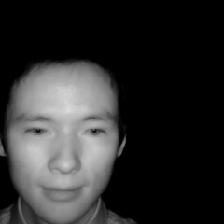normal: (4, 51, 130, 224)
